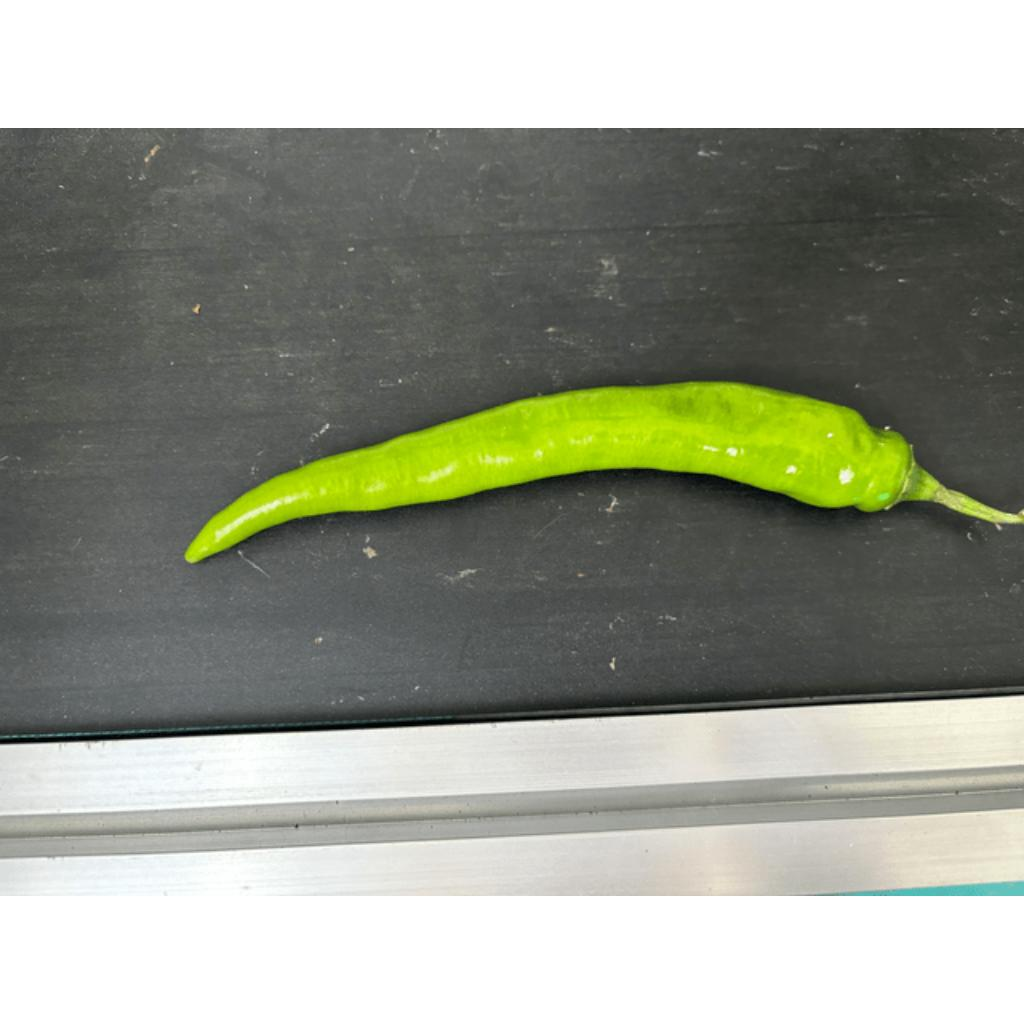chili: (177, 378, 920, 567)
